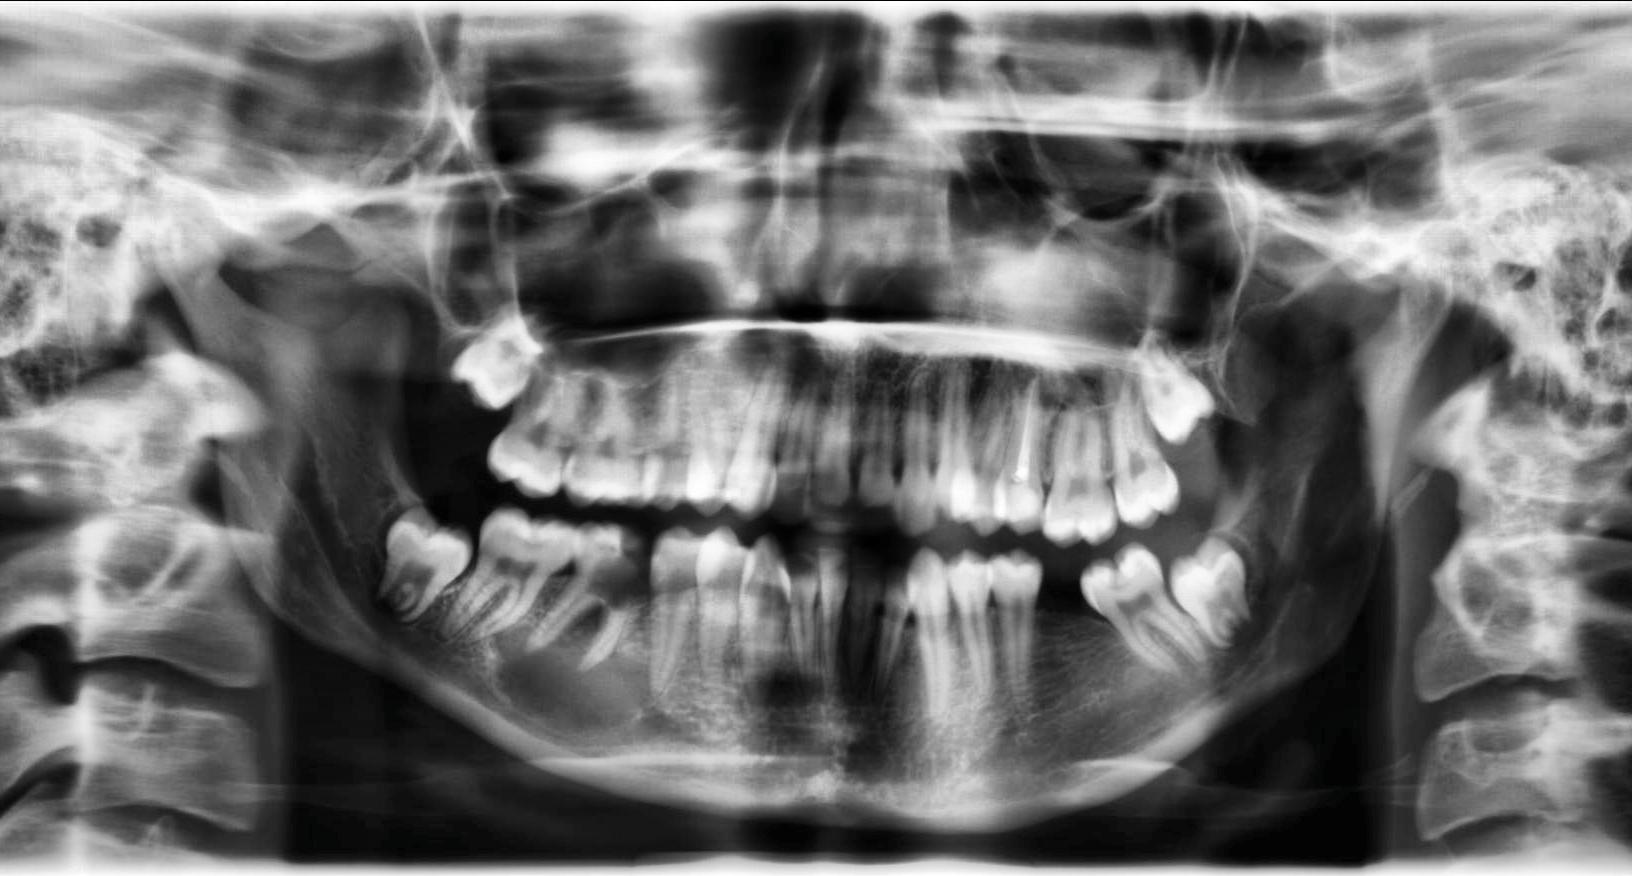radikuler: (491, 620, 649, 742)
